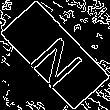N_NE: (22, 23, 88, 87)
